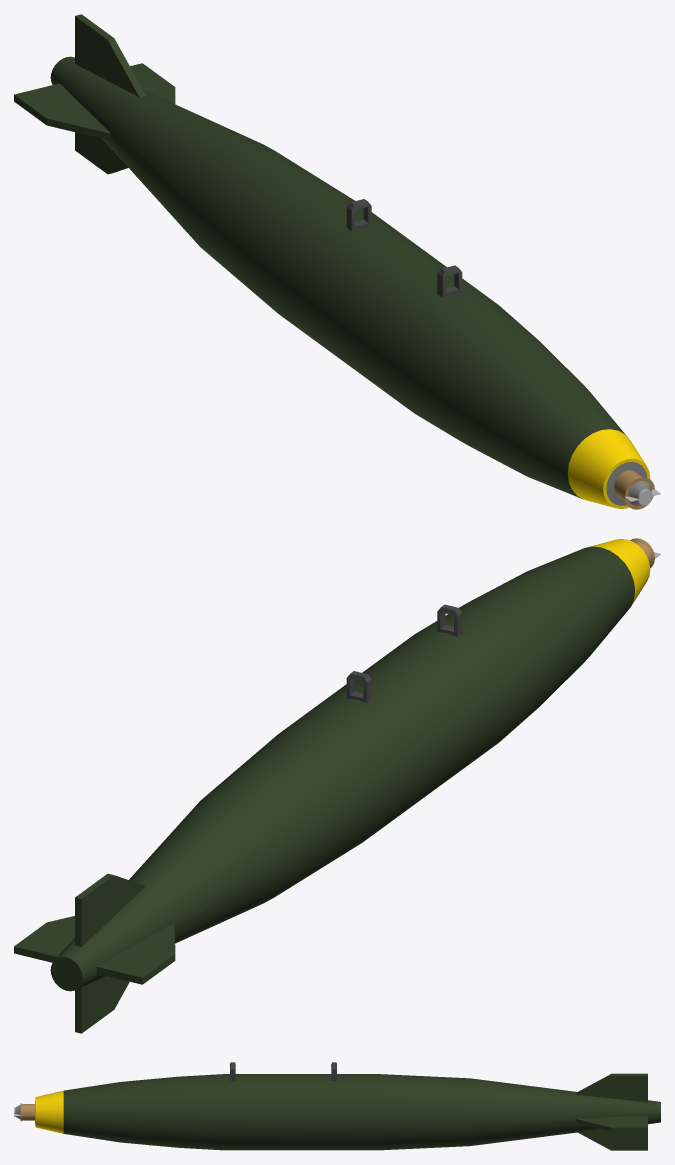
File: MK-82 LDGP.glb
The picture shows the model from 3 angles, top to bottom: view 1: azimuth 30°, elevation 25°; view 2: azimuth 150°, elevation 25°; view 3: azimuth 270°, elevation 25°; orthographic projection. The views are drawn at different scales.
Parts seen in each view (by area): view 1: Mk-82 Standard Tail; view 2: Mk-82 Standard Tail; view 3: Mk-82 Standard Tail.
Boxes of the visible parts, x1,y1,x2,y2 form: Mk-82 Standard Tail: [14, 14, 660, 509]; Mk-82 Standard Tail: [14, 538, 660, 1033]; Mk-82 Standard Tail: [14, 1062, 660, 1150].
Size of the model in its own units: 0.2898 by 0.3303 by 2.26.
2 materials, 2 textured.
